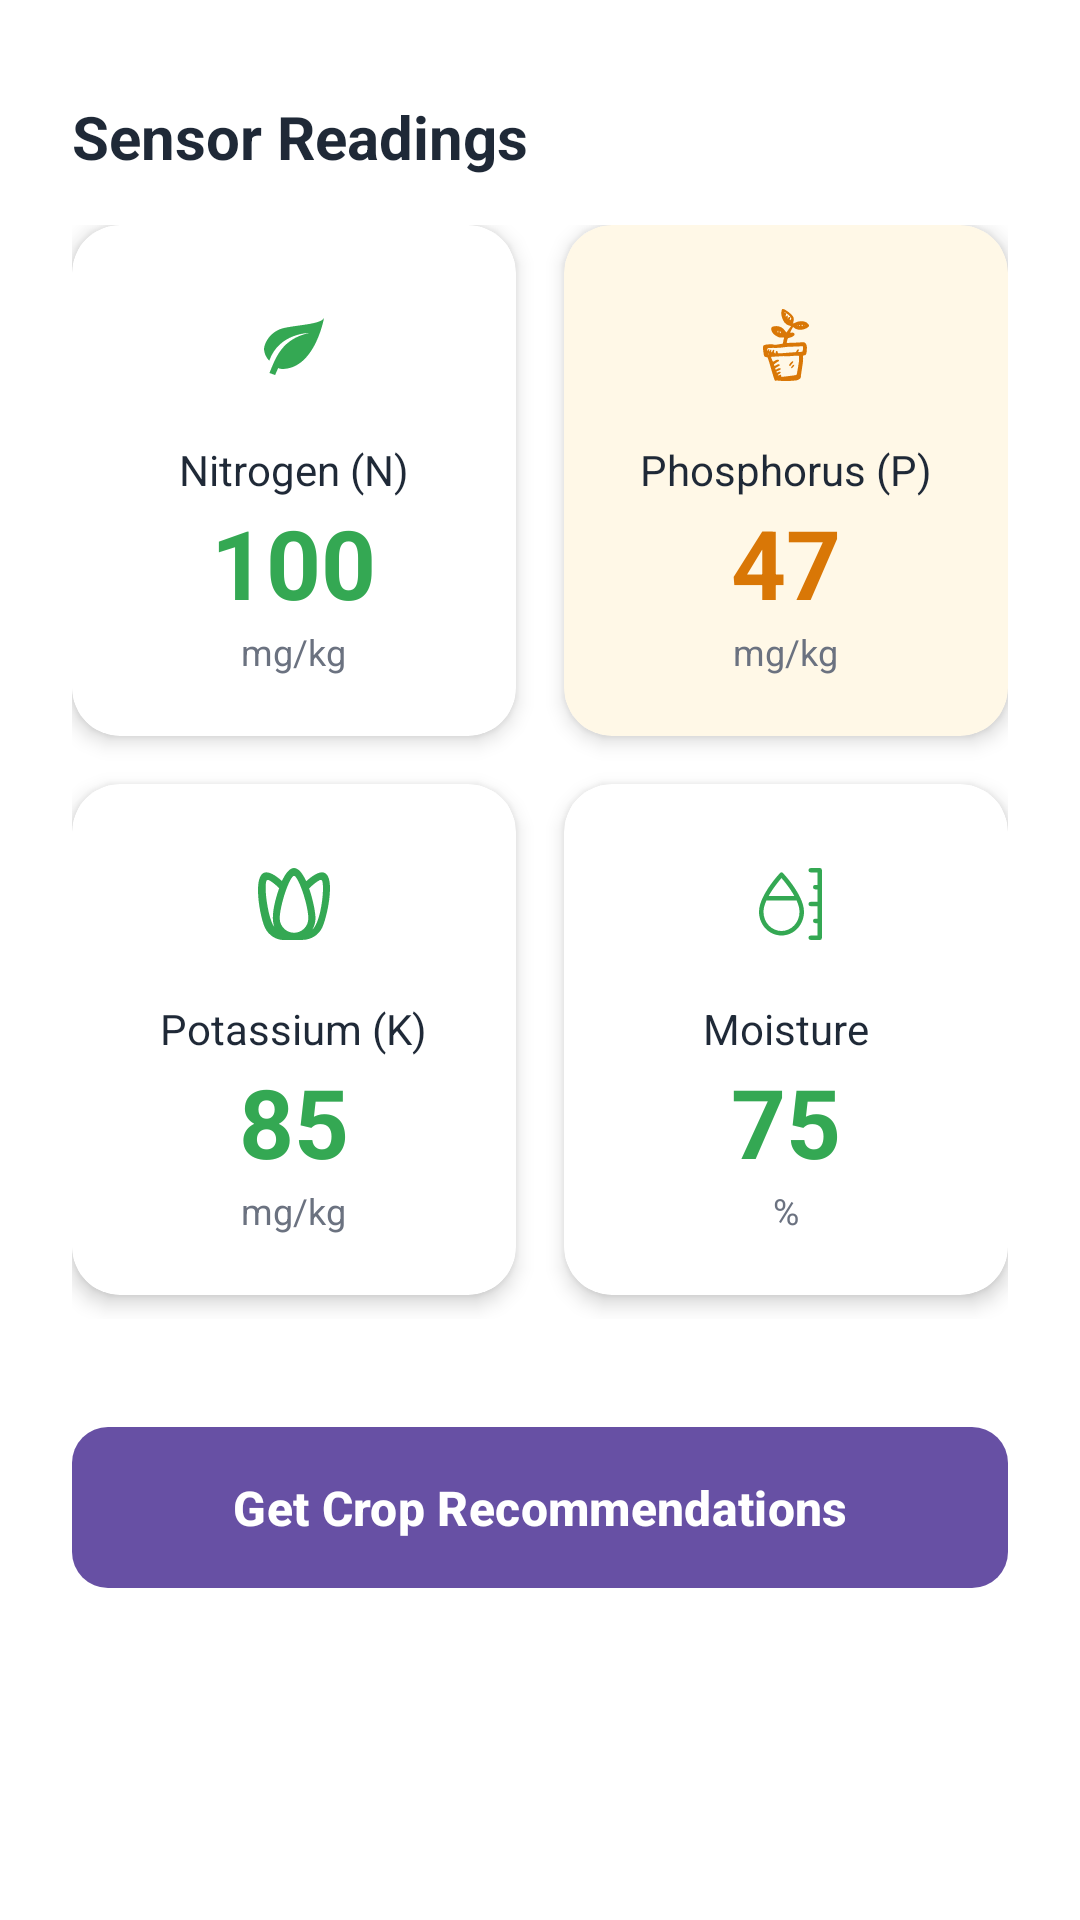

Icons on this 1080 × 1920 Android screen, each with the point to tap as point (x, y):
leaf: point (294, 346)
plant: point (786, 345)
water drop: point (790, 904)
